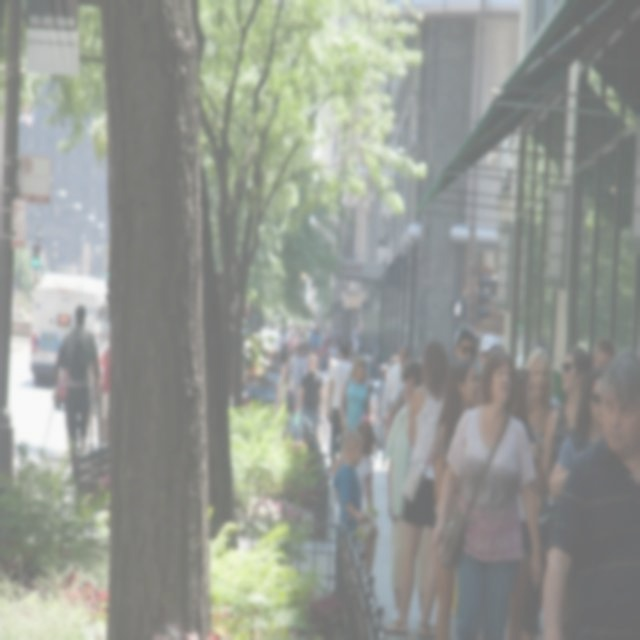pessoa: (432, 346, 543, 640), (542, 348, 640, 640), (382, 338, 452, 635), (542, 348, 594, 640), (433, 358, 481, 640), (387, 358, 432, 626), (257, 320, 383, 394), (506, 368, 538, 639), (52, 304, 100, 483), (548, 367, 608, 502), (331, 420, 379, 584), (332, 428, 378, 588), (525, 346, 564, 466), (82, 332, 110, 456), (326, 344, 353, 462), (339, 355, 372, 432), (296, 352, 324, 442), (381, 344, 411, 424), (476, 334, 504, 406), (372, 363, 390, 469), (274, 363, 294, 441), (592, 337, 618, 370), (454, 328, 477, 364), (288, 344, 304, 392)
